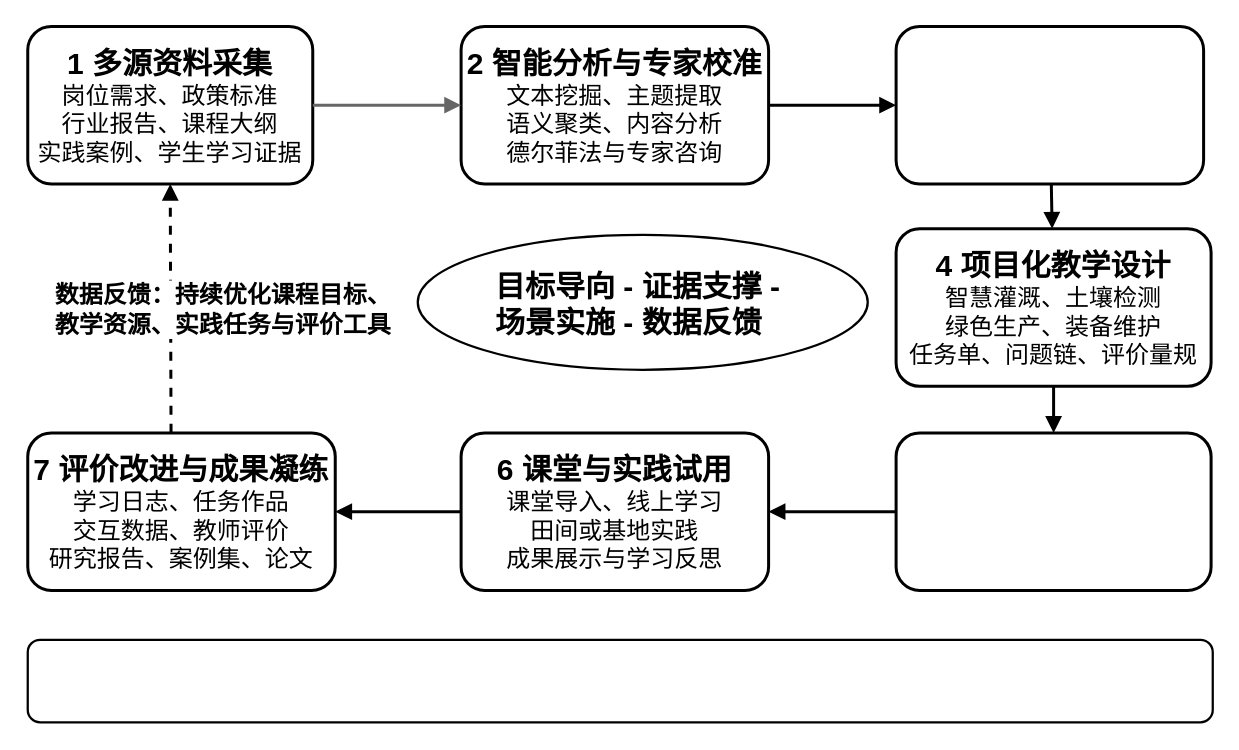
This 1239x750 diagram has some shape labels left out. The centre of each missing label's shape, as x and y in pixels:
3 知识图谱构建 劳动任务 - 科学知识 操作规范 - 安全风险 价值元素 - 评价证据: the point at 1049,104
5 RAG智能伴学开发 可信课程知识库 原理解释、操作提示 资源推荐、反思引导: the point at 1053,511
形成可复制、可推广的AI赋能劳动教育通识必修课程改革模式: the point at 619,680
